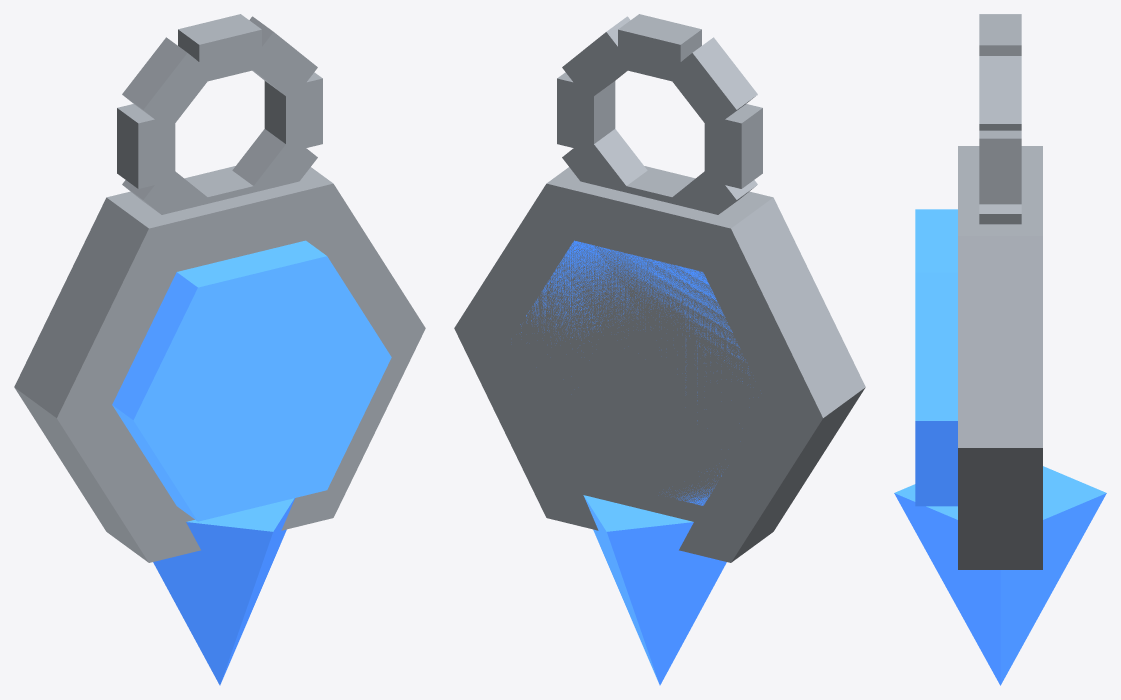
The model's file is sapphire_charm.glb.
3 views of the same model, side by side, from view 1: azimuth 30°, elevation 25°; view 2: azimuth 150°, elevation 25°; view 3: azimuth 270°, elevation 25° (orthographic).
Visible parts, largest first — view 1: sapphire_charm; view 2: sapphire_charm; view 3: sapphire_charm.
Boxes of the visible parts, bbox=[...] form: sapphire_charm: bbox=[14, 14, 425, 685]; sapphire_charm: bbox=[454, 14, 865, 685]; sapphire_charm: bbox=[894, 14, 1106, 685].
Bounding box in the file's own units: 0.2 × 0.34 × 0.1.
